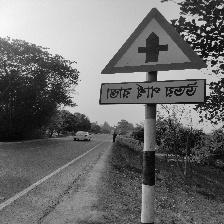Crossroad: (94, 6, 210, 115)
